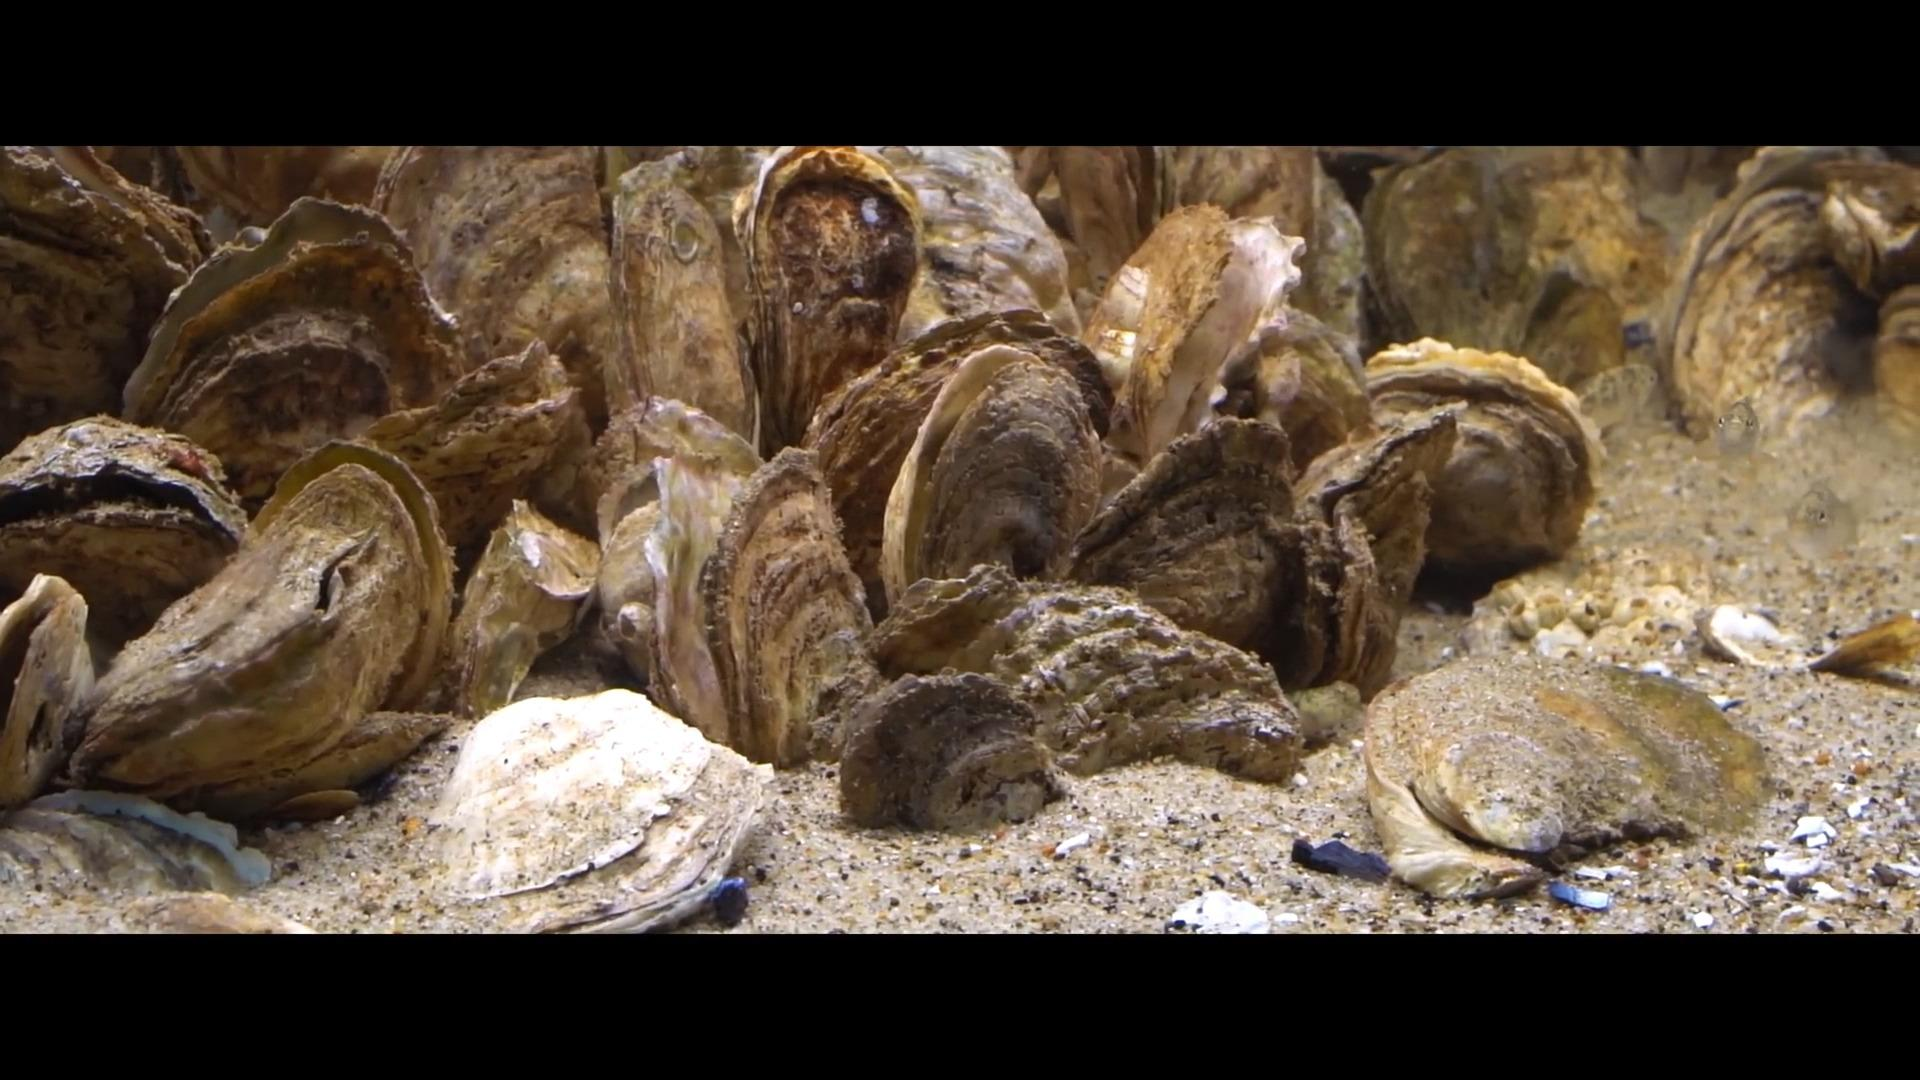Oyster: (65, 456, 455, 808), (121, 199, 455, 510), (1357, 654, 1768, 889), (419, 688, 773, 932), (372, 144, 626, 433), (1062, 410, 1329, 674), (667, 443, 870, 770), (1345, 338, 1597, 587), (0, 144, 203, 452), (1085, 196, 1308, 472), (986, 591, 1295, 787), (330, 336, 595, 562), (1655, 170, 1865, 444), (737, 144, 922, 455), (885, 347, 1104, 599), (3, 413, 245, 630), (1076, 426, 1292, 657), (1286, 405, 1452, 699), (607, 152, 758, 450), (1490, 150, 1684, 351), (1361, 148, 1543, 359), (832, 670, 1054, 836), (849, 671, 1067, 836), (444, 497, 601, 720), (0, 790, 277, 907), (1738, 154, 1919, 313), (185, 709, 454, 815), (587, 390, 766, 545), (1224, 305, 1371, 481), (0, 574, 100, 812), (861, 555, 1040, 686), (1156, 144, 1316, 258), (1036, 145, 1155, 298)
